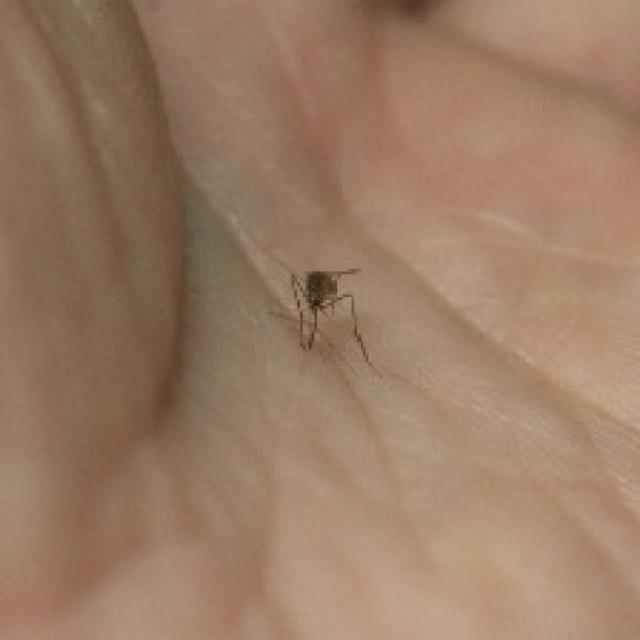culex: (266, 263, 374, 371)
